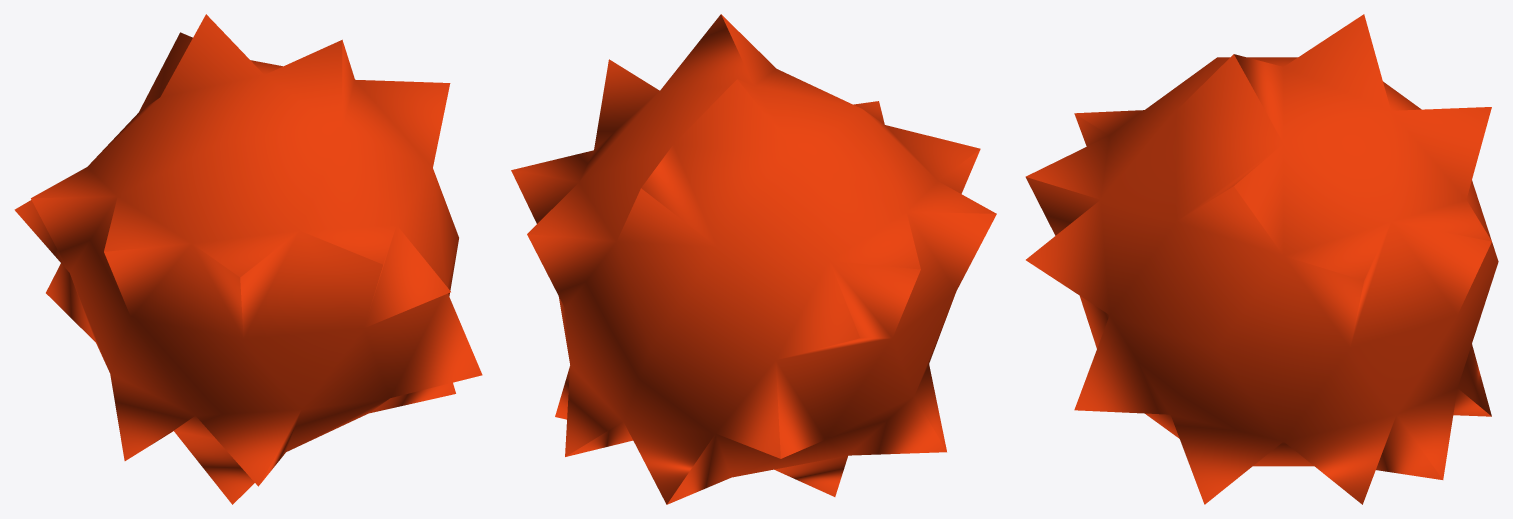
File: SM_FireBall.fbx
The picture shows the model from 3 angles, left to right: view 1: azimuth 30°, elevation 25°; view 2: azimuth 150°, elevation 25°; view 3: azimuth 270°, elevation 25°; orthographic projection. The views are drawn at different scales.
Visible parts, largest first — view 1: SM_FireBall; view 2: SM_FireBall; view 3: SM_FireBall.
Part boxes in pixels (x1,y1,x2,y2): SM_FireBall: (14,14,482,504); SM_FireBall: (511,14,996,504); SM_FireBall: (1025,14,1498,504).
Size of the model in its own units: 17.13 by 18.22 by 16.51.
